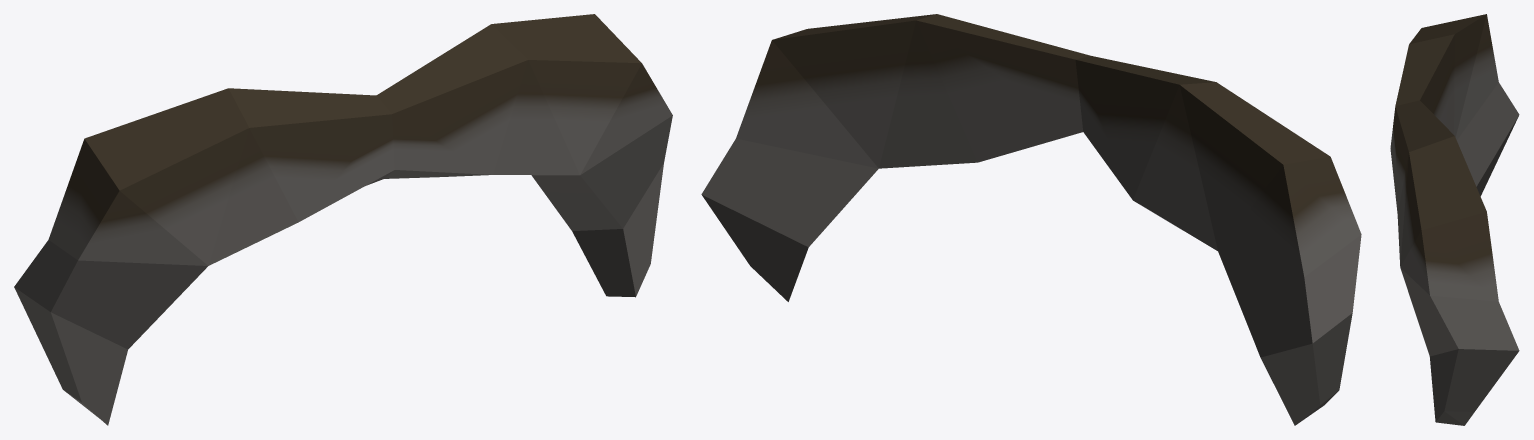
Rendered from SM_Chr_Attach_Beard_03_Mustache.fbx.
3 views of the same model, side by side, from view 1: azimuth 30°, elevation 25°; view 2: azimuth 150°, elevation 25°; view 3: azimuth 270°, elevation 25° (orthographic). The views are drawn at different scales.
Visible parts, largest first — view 1: SM_Chr_Attach_Beard_03_Mustache; view 2: SM_Chr_Attach_Beard_03_Mustache; view 3: SM_Chr_Attach_Beard_03_Mustache.
Boxes of the visible parts, <box> form: SM_Chr_Attach_Beard_03_Mustache: <box>14,14,672,425</box>; SM_Chr_Attach_Beard_03_Mustache: <box>701,14,1361,425</box>; SM_Chr_Attach_Beard_03_Mustache: <box>1390,14,1519,425</box>.
Size of the model in its own units: 17.19 by 8.21 by 3.95.
